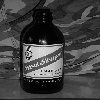beer: (17, 8, 69, 94)
